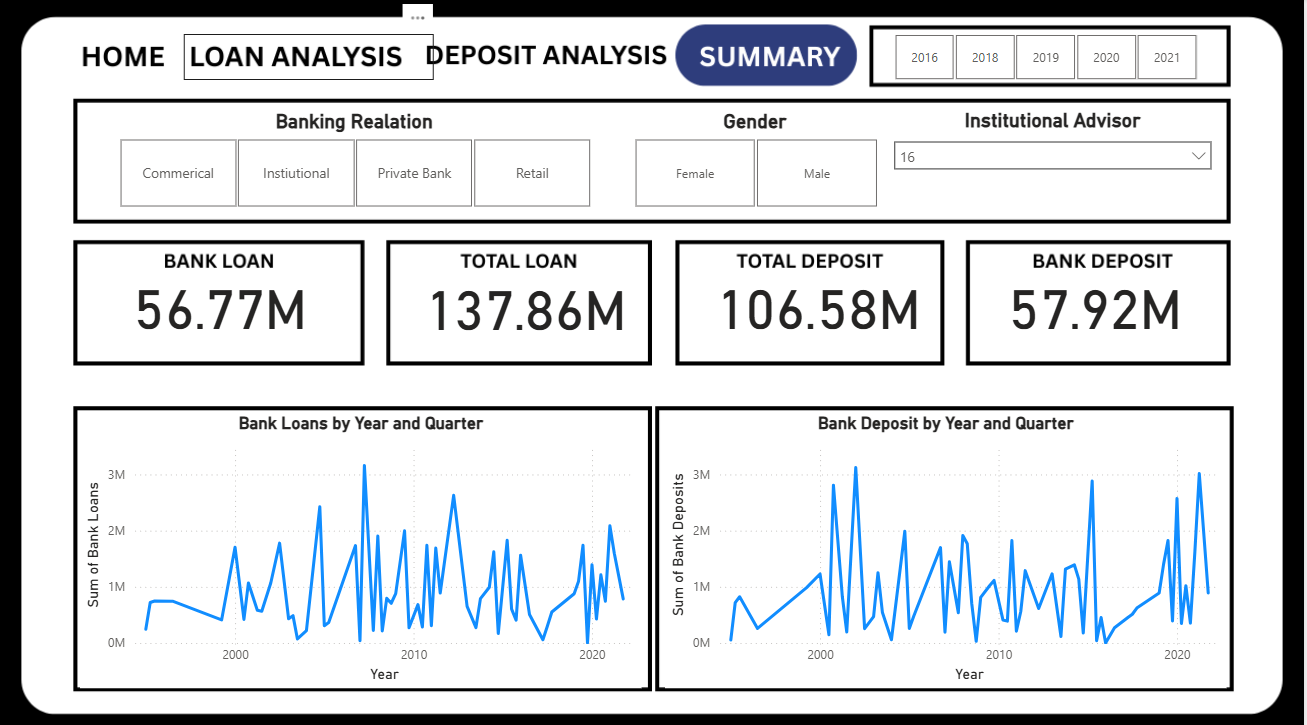

What the dashboard file says about the page in this screenshot:
{"tool":"powerbi","page":{"name":"SUMMARY","canvas":[1280,720],"ordinal":3},"visuals":[{"type":"slicer","title":"JOINING YEAR","fields":{"Values":["Banking_Clients.Joined Bank.Variation.Date Hierarchy.Year"]},"box":[852.9,28.6,345.7,57.1],"z":0},{"type":"actionButton","box":[78.6,28.9,101.4,45.7],"z":1},{"type":"actionButton","box":[180,34.6,245.7,45.7],"z":2},{"type":"actionButton","box":[412.9,34.3,240,45.7],"z":3},{"type":"slicer","title":"Banking Realation","fields":{"Values":["Banking_Clients.BRId"]},"box":[91.4,108.9,511.4,101.4],"z":4},{"type":"slicer","title":"Gender","fields":{"Values":["Banking_Clients.GenderId"]},"box":[597.1,108.9,287.1,101.4],"z":5},{"type":"slicer","title":"Institutional Advisor","fields":{"Values":["Banking_Clients.IAId"]},"box":[867.1,108.6,331.4,101.4],"z":6},{"type":"card","title":"TOTAL LOAN","fields":{"Values":["Banking_Clients.Total_Loan"]},"box":[392.9,280,247.1,60],"z":7},{"type":"card","title":"TOTAL LOAN","fields":{"Values":["Sum(Banking_Clients.Bank Loans)"]},"box":[91.4,278.6,247.1,61.4],"z":8},{"type":"card","title":"TOTAL LOAN","fields":{"Values":["Sum(Banking_Clients.Bank Deposits)"]},"box":[951.4,278.6,247.1,61.4],"z":9},{"type":"card","title":"TOTAL LOAN","fields":{"Values":["Banking_Clients.Total Depost"]},"box":[680,278.6,247.1,60],"z":10},{"type":"lineChart","title":" Bank Loans by Year and Quarter","fields":{"Category":["Banking_Clients.Joined Bank.Variation.Date Hierarchy.Year","Banking_Clients.Joined Bank.Variation.Date Hierarchy.Quarter"],"Y":["Sum(Banking_Clients.Bank Loans)"]},"box":[78.6,405.7,551.4,270],"z":11},{"type":"lineChart","title":" Bank Deposit by Year and Quarter","fields":{"Category":["Banking_Clients.Joined Bank.Variation.Date Hierarchy.Year","Banking_Clients.Joined Bank.Variation.Date Hierarchy.Quarter"],"Y":["Sum(Banking_Clients.Bank Deposits)"]},"box":[652.9,405.7,551.4,270],"z":12}]}

Visuals, with their boxes in screenshot pixels (x1, y1, x2, y2), scaled from the page's 1280x720 canvas onto the 1307x725 screenshot:
"JOINING YEAR" slicer: l=871, t=29, r=1224, b=86
actionButton: l=80, t=29, r=184, b=75
actionButton: l=184, t=35, r=435, b=81
actionButton: l=422, t=35, r=667, b=81
"Banking Realation" slicer: l=93, t=110, r=616, b=212
"Gender" slicer: l=610, t=110, r=903, b=212
"Institutional Advisor" slicer: l=885, t=109, r=1224, b=211
"TOTAL LOAN" card: l=401, t=282, r=654, b=342
"TOTAL LOAN" card: l=93, t=281, r=346, b=342
"TOTAL LOAN" card: l=971, t=281, r=1224, b=342
"TOTAL LOAN" card: l=694, t=281, r=947, b=341
" Bank Loans by Year and Quarter" lineChart: l=80, t=409, r=643, b=680
" Bank Deposit by Year and Quarter" lineChart: l=667, t=409, r=1230, b=680
